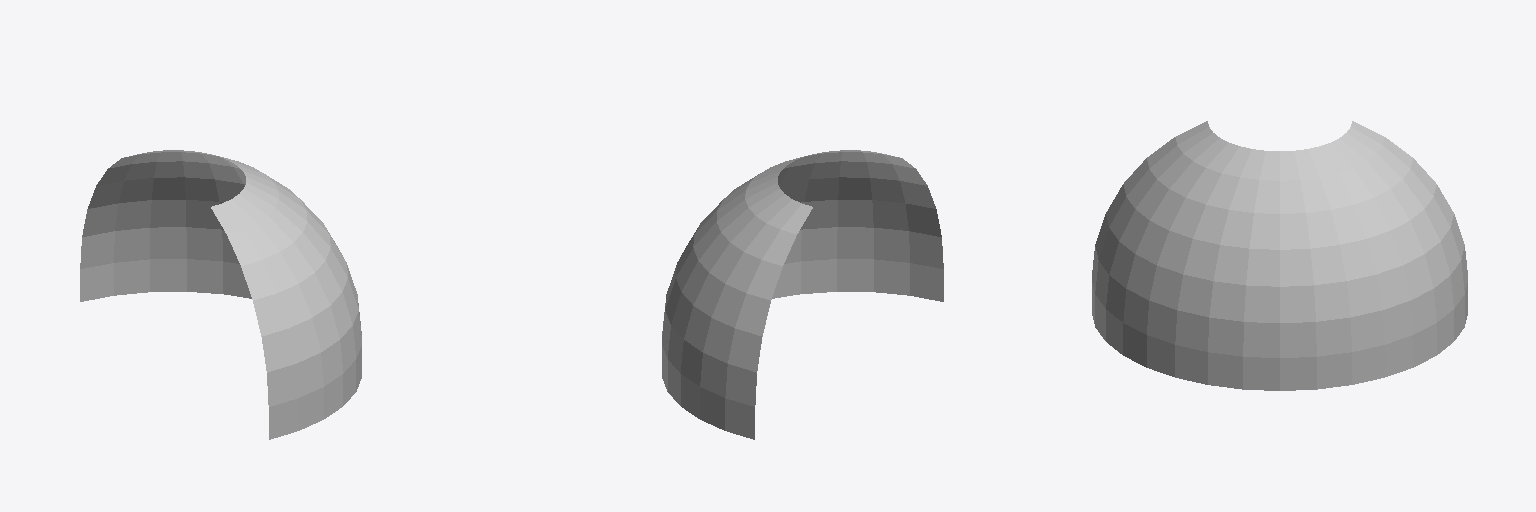
File: Sky.obj
3 views of the same model, side by side, from view 1: azimuth 30°, elevation 25°; view 2: azimuth 150°, elevation 25°; view 3: azimuth 270°, elevation 25° (orthographic).
Parts seen in each view (by area): view 1: Sphere; view 2: Sphere; view 3: Sphere.
Part boxes in pixels (bbox=[...]): Sphere: bbox=[80, 150, 361, 439]; Sphere: bbox=[662, 150, 943, 439]; Sphere: bbox=[1092, 121, 1467, 390].
Size of the model in its own units: 217 by 242 by 434.